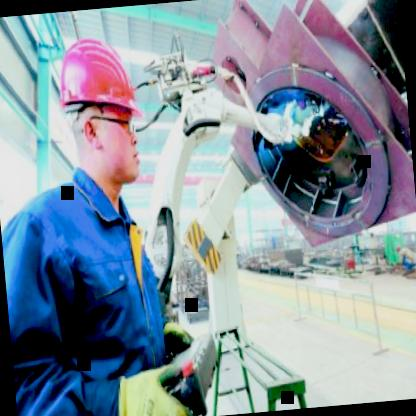helmet: (44, 21, 152, 198)
